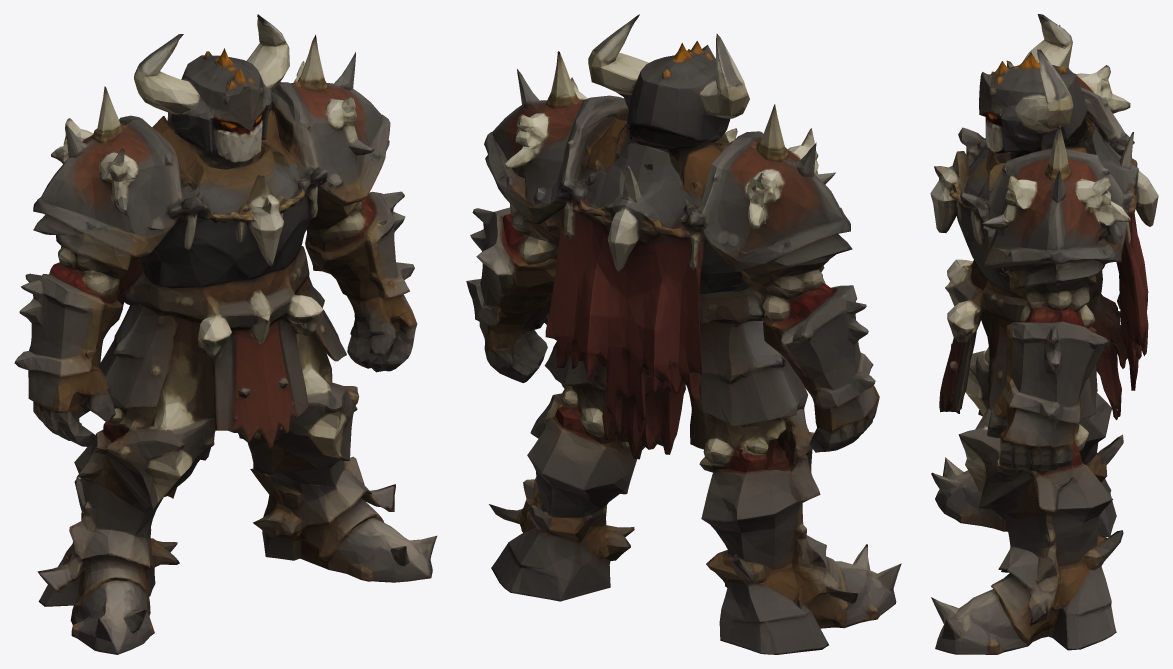
Rendered from trellis-1.glb.
The picture shows the model from 3 angles, left to right: view 1: azimuth 30°, elevation 25°; view 2: azimuth 150°, elevation 25°; view 3: azimuth 270°, elevation 25°; orthographic projection. The views are drawn at different scales.
Visible parts, largest first — view 1: world; view 2: world; view 3: world.
Boxes of the visible parts, <box> form: world: <box>14,14,437,654</box>; world: <box>466,14,901,654</box>; world: <box>930,14,1158,654</box>.
Bounding box in the file's own units: 0.7526 × 1 × 0.3816.
Materials: 1 (1 with a texture image).
